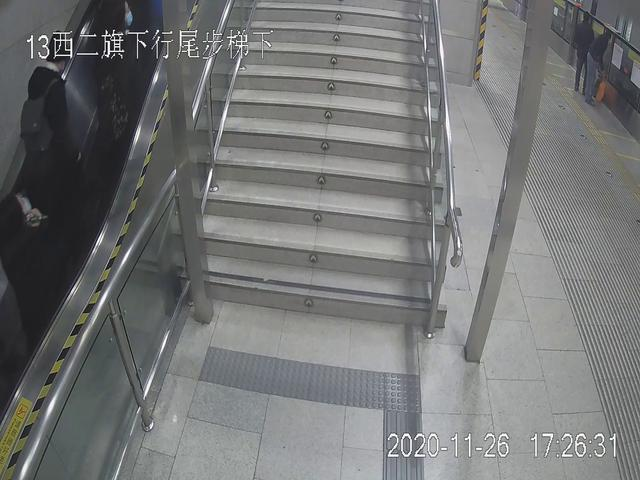person: (15, 34, 88, 205), (572, 8, 595, 105), (589, 26, 614, 105)
